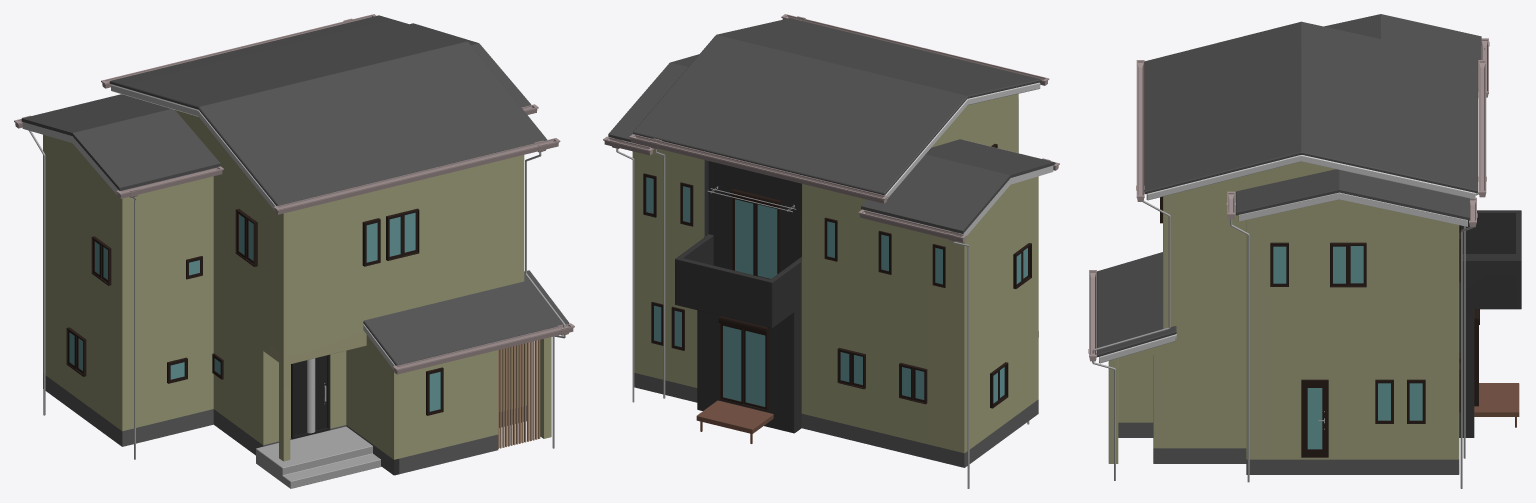
File: house_007_high.fbx
The picture shows the model from 3 angles, left to right: view 1: azimuth 30°, elevation 25°; view 2: azimuth 150°, elevation 25°; view 3: azimuth 270°, elevation 25°; orthographic projection. The views are drawn at different scales.
Visible parts, largest first — view 1: pCube58; view 2: pCube58; view 3: pCube58.
Boxes of the visible parts, box(x1,y1,x2,y2) form: pCube58: box(14, 14, 574, 488); pCube58: box(603, 14, 1059, 488); pCube58: box(1088, 14, 1521, 488).
Bounding box in the file's own units: 9.78 × 8.21 × 9.43.
